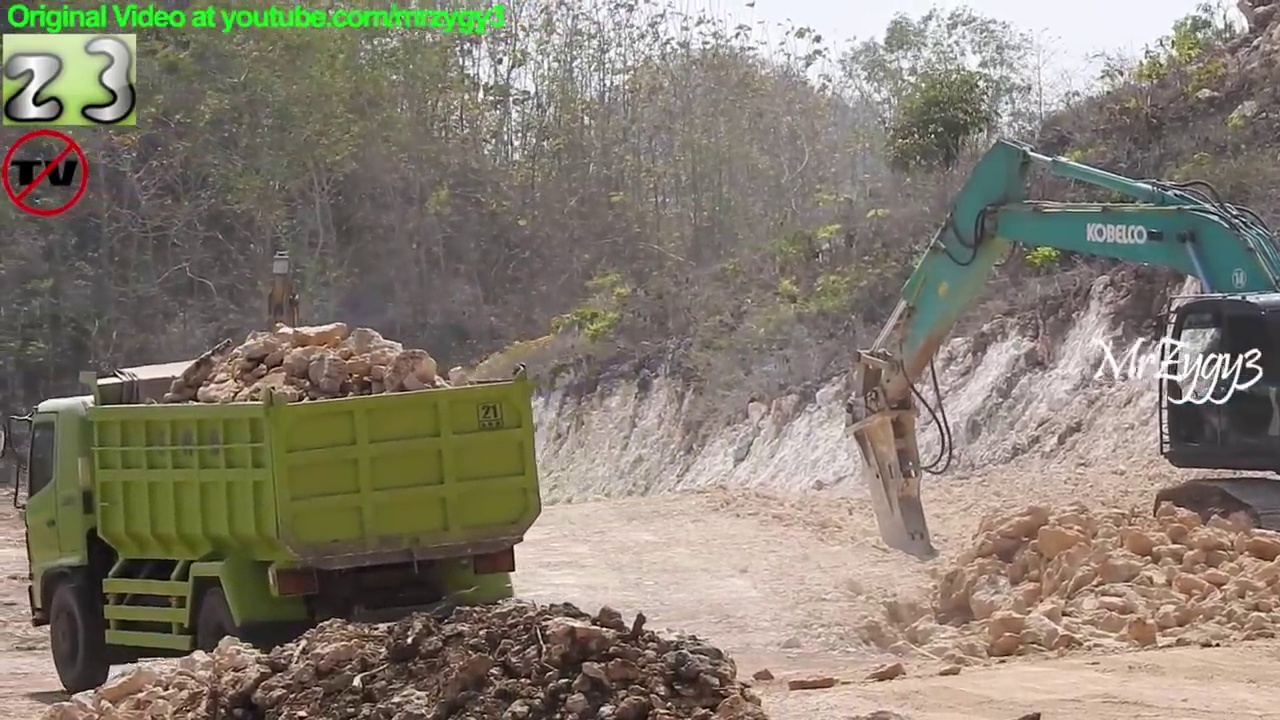excavator: (834, 133, 1280, 571), (195, 247, 391, 568), (403, 302, 627, 527)
truck: (1, 311, 551, 702)
